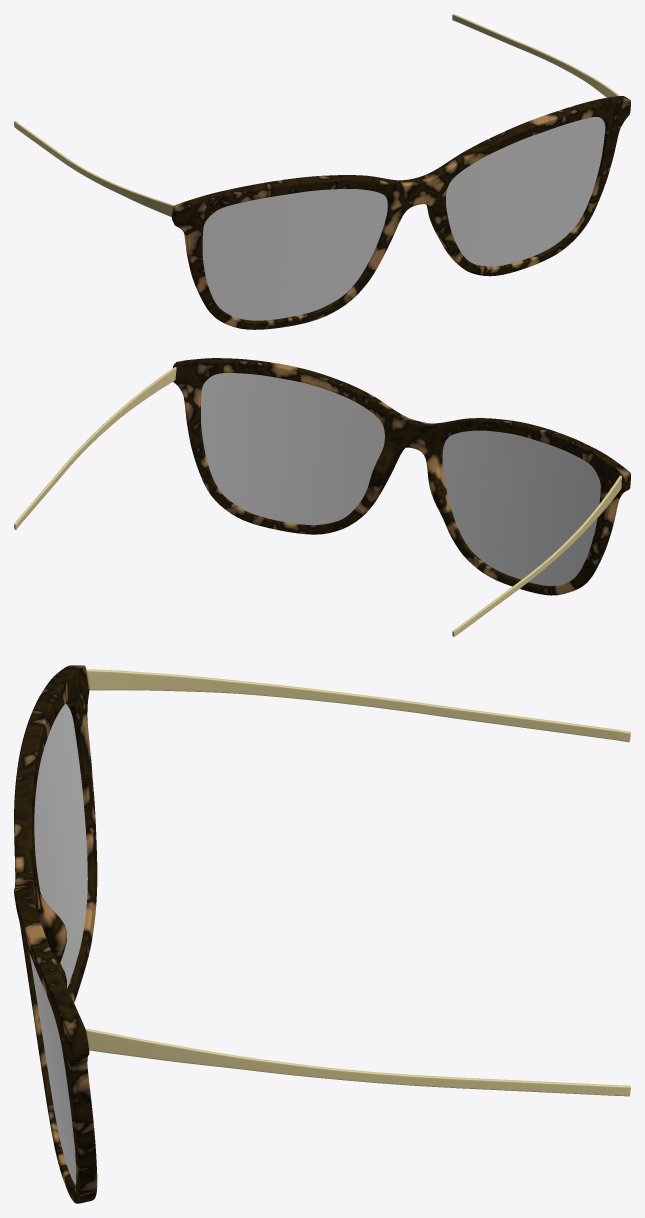
The model's file is RB7135L_APP_09072020.glb.
The picture shows the model from 3 angles, top to bottom: view 1: azimuth 30°, elevation 25°; view 2: azimuth 150°, elevation 25°; view 3: azimuth 270°, elevation 25°; orthographic projection. The views are drawn at different scales.
Parts seen in each view (by area): view 1: Lentes, Plane003, Hastes; view 2: Lentes, Plane003, Hastes; view 3: Plane003, Hastes, Lentes.
Part boxes in pixels (box(x1,y1,x2,y2)): Lentes: box(202, 117, 605, 320); Plane003: box(172, 96, 630, 329); Hastes: box(14, 14, 619, 217); Lentes: box(201, 373, 600, 585); Plane003: box(173, 358, 630, 595); Hastes: box(14, 367, 621, 636); Plane003: box(14, 665, 97, 1203); Hastes: box(86, 669, 630, 1096); Lentes: box(29, 703, 87, 1185).
Bounding box in the file's own units: 0.158 × 0.0496 × 0.1087.
3 materials, 1 textured.
